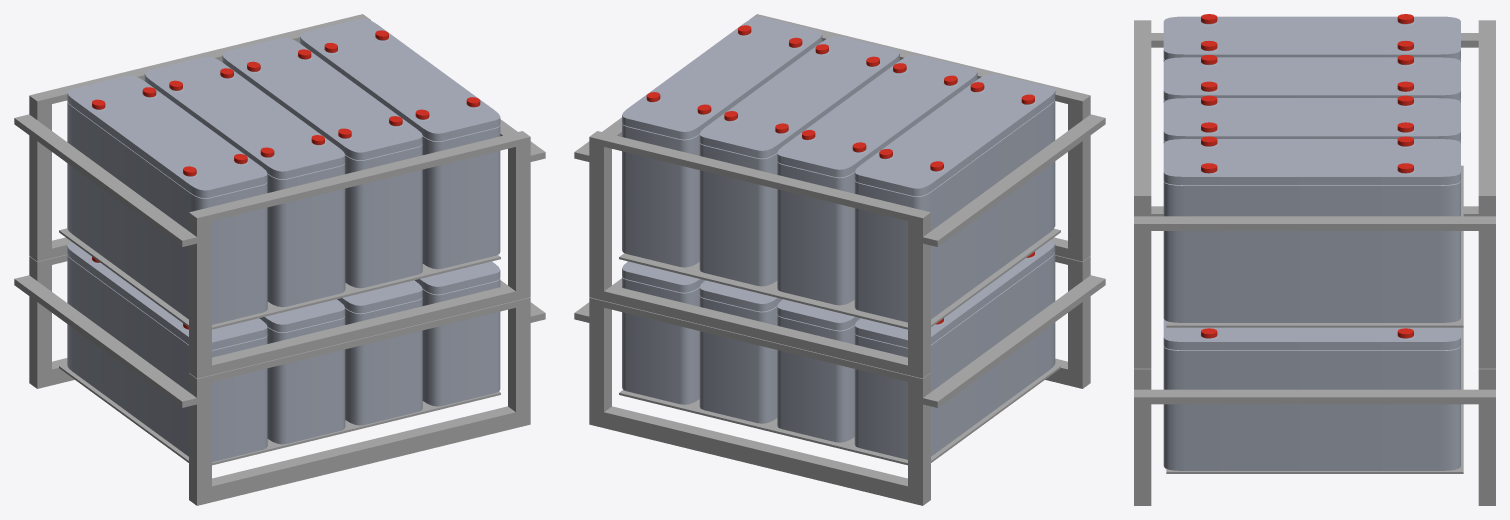
3 renders of one model, left to right at view 1: azimuth 30°, elevation 25°; view 2: azimuth 150°, elevation 25°; view 3: azimuth 270°, elevation 25°, orthographic. The views are drawn at different scales.
Visible parts, largest first — view 1: RM1-BH08W100D080_06, RM1-BH08W100D080_01, RM1-BH08W100D080_02, RM1-BH08W100D080_04, RM1-BH08W100D080_03; view 2: RM1-BH08W100D080_06, RM1-BH08W100D080_01, RM1-BH08W100D080_03, RM1-BH08W100D080_02, RM1-BH08W100D080_04; view 3: RM1-BH08W100D080_04, RM1-BH08W100D080_06, RM1-BH08W100D080_01, RM1-BH08W100D080_02, RM1-BH08W100D080_03.
Part boxes in pixels (x1,y1,x2,y2): RM1-BH08W100D080_06: (14,14,545,505); RM1-BH08W100D080_01: (67,75,267,461); RM1-BH08W100D080_02: (144,56,345,444); RM1-BH08W100D080_04: (300,18,500,406); RM1-BH08W100D080_03: (222,37,422,425); RM1-BH08W100D080_06: (574,14,1105,505); RM1-BH08W100D080_01: (854,73,1055,459); RM1-BH08W100D080_03: (699,36,899,423); RM1-BH08W100D080_02: (777,55,977,442); RM1-BH08W100D080_04: (622,17,822,404); RM1-BH08W100D080_04: (1163,136,1460,470); RM1-BH08W100D080_06: (1134,20,1495,505); RM1-BH08W100D080_01: (1163,14,1460,61); RM1-BH08W100D080_02: (1163,55,1460,102); RM1-BH08W100D080_03: (1163,95,1460,143).
Bounding box in the file's own units: 1 × 0.8 × 0.8.
